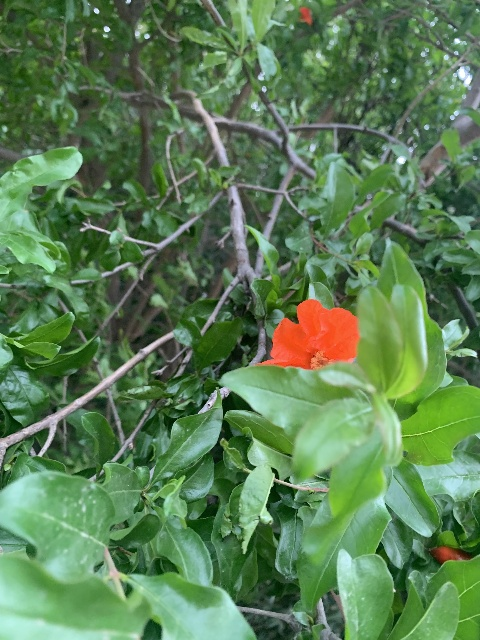bud: (430, 546, 473, 565)
flower: (255, 299, 360, 371)
